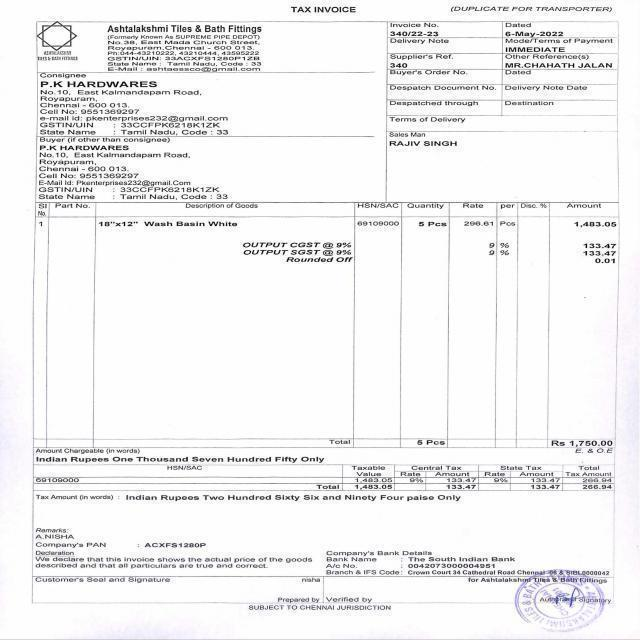ROI: (31, 201, 621, 281), (27, 464, 620, 491), (32, 137, 290, 199), (36, 72, 245, 136), (324, 543, 619, 584), (503, 37, 616, 125), (96, 21, 263, 73), (385, 38, 493, 111), (25, 524, 313, 550), (29, 550, 309, 572), (21, 446, 350, 464), (244, 589, 399, 625), (34, 492, 469, 502), (31, 574, 321, 589), (325, 435, 621, 449), (519, 591, 631, 617), (32, 19, 88, 65), (445, 0, 613, 15), (385, 132, 465, 151), (496, 22, 578, 38), (284, 0, 361, 17), (384, 19, 449, 37), (384, 116, 474, 128)
